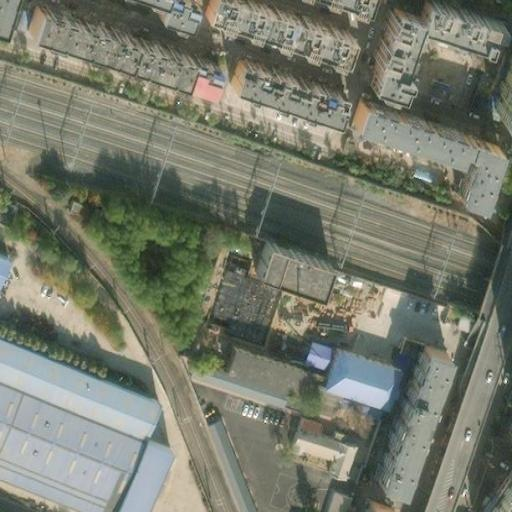building: (26, 0, 214, 87), (372, 335, 440, 483), (354, 329, 416, 473), (192, 0, 342, 53), (181, 345, 303, 408), (351, 97, 468, 161), (219, 59, 335, 120), (194, 414, 248, 512), (198, 251, 259, 334), (313, 339, 394, 401), (360, 0, 408, 87), (276, 422, 352, 476), (286, 375, 350, 437), (251, 229, 328, 279), (453, 135, 499, 205), (473, 463, 512, 512), (295, 483, 352, 512), (489, 38, 512, 109), (356, 492, 390, 512), (152, 0, 184, 19), (0, 252, 15, 290), (231, 239, 255, 261)
